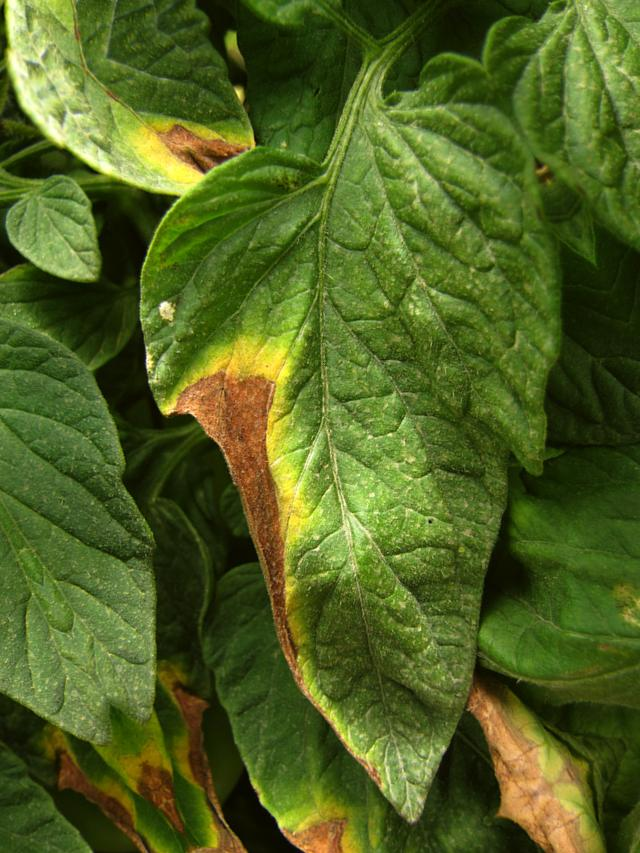Tomato leaf bacterial spot: (46, 22, 640, 844)
